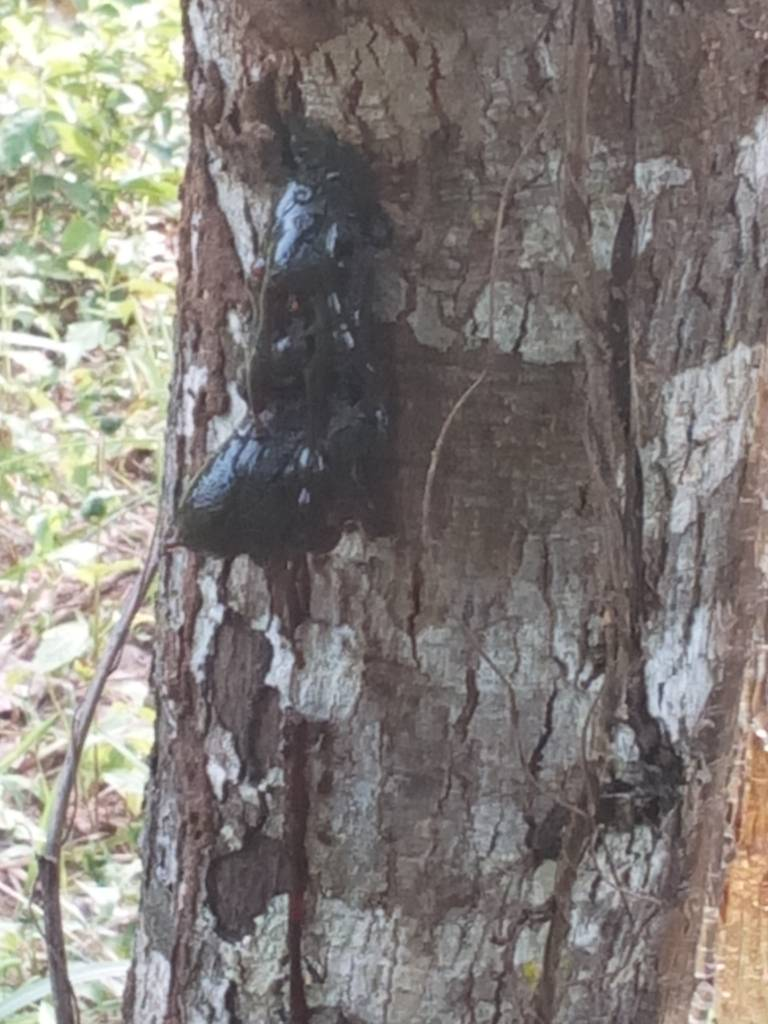Mecocorynus longiceps: (146, 164, 419, 622)
